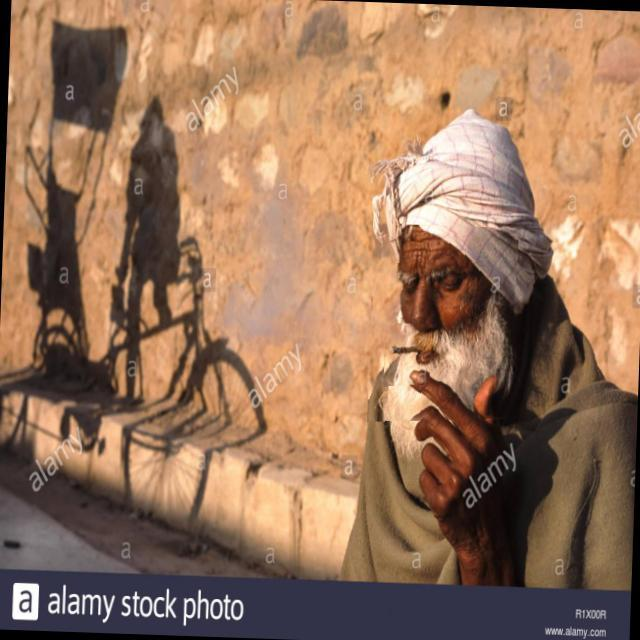cigarette: (383, 322, 432, 388)
